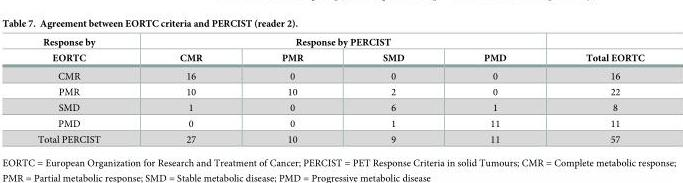table: (37, 36, 643, 144)
table column: (37, 36, 139, 144), (139, 36, 241, 144), (443, 36, 545, 144), (241, 36, 342, 144), (342, 36, 443, 144), (545, 36, 643, 144)
table column header: (37, 36, 643, 66)
table row: (37, 49, 643, 66), (37, 66, 643, 83), (37, 83, 643, 99), (37, 99, 643, 115), (37, 115, 643, 131), (37, 36, 643, 49), (37, 131, 643, 144)
table spanning cell: (139, 36, 545, 49), (37, 36, 139, 66), (545, 36, 643, 66)
